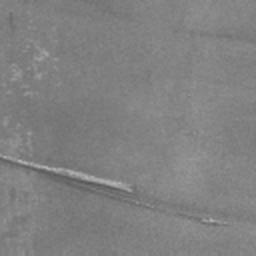Finishing roll printing: (0, 154, 229, 227)
